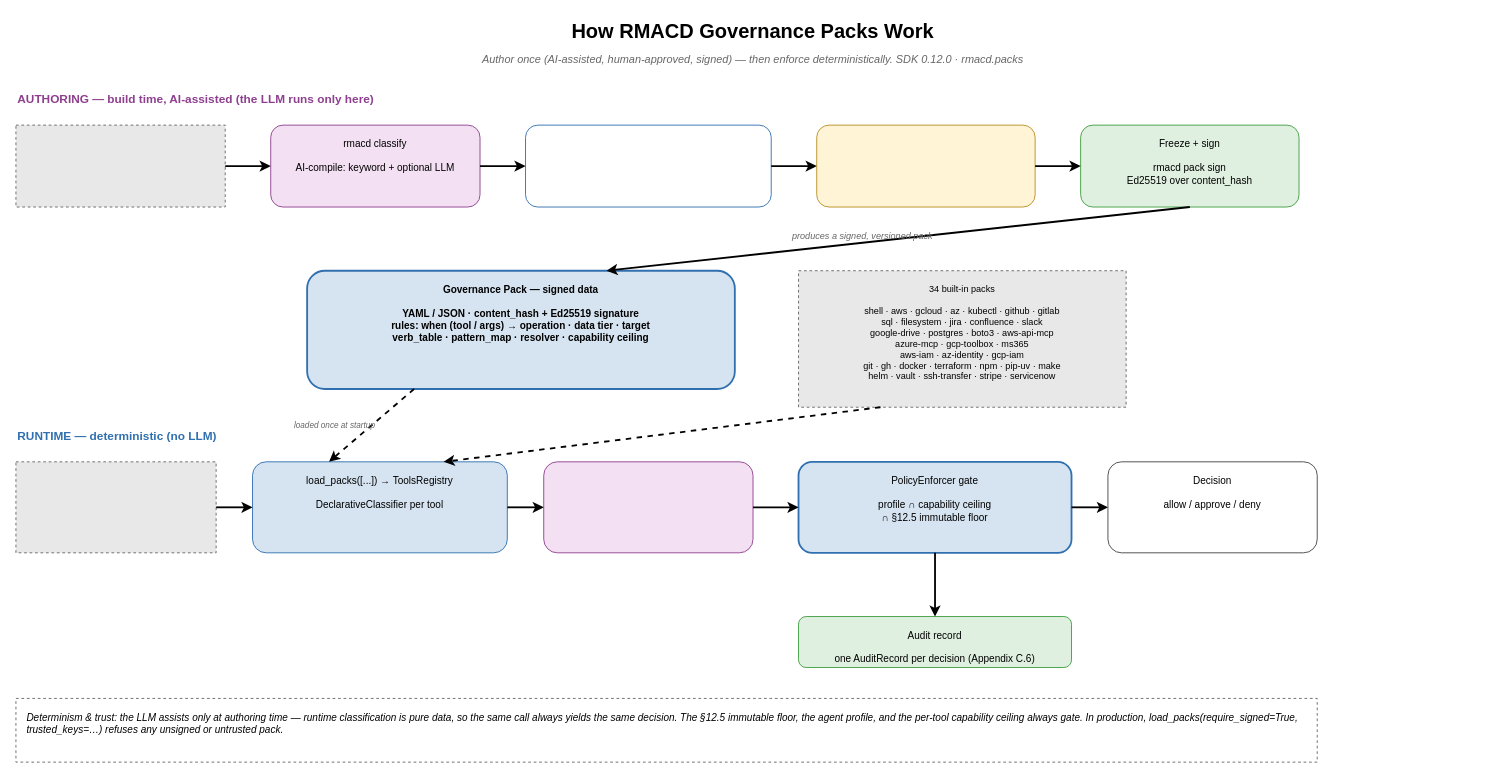
Image size: 1506x778. Some labels were removed from this diagram. The centre of each missing label's shape, as x and y in pixels:
"Agent tool call (tool_name, args)" goes at pixel 115 507.
"Human review rmacd pack review (low-confidence / delete-capable)" goes at pixel 925 165.
"Proposal pack per-tool rules + confidence + provenance" goes at pixel 648 165.
"Resolve (operation, data tier, target)" goes at pixel 648 507.
"Tool source MCP tools/list · OpenAPI · CLI list" goes at pixel 120 165.
